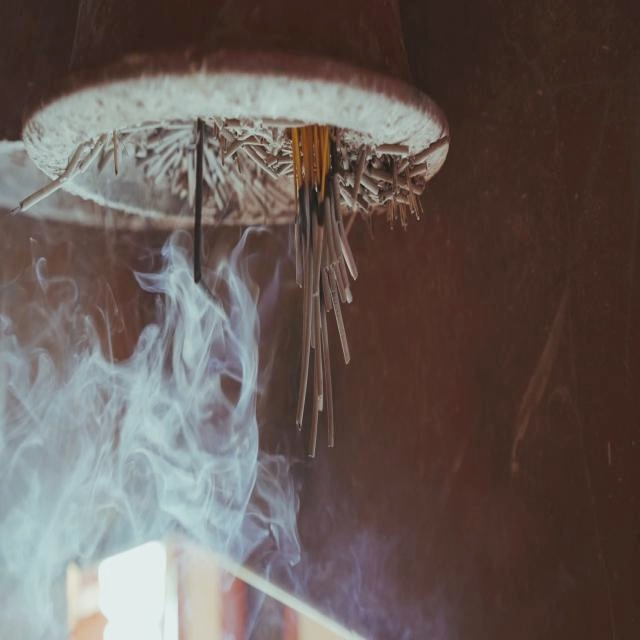smoke: (0, 265, 317, 635)
